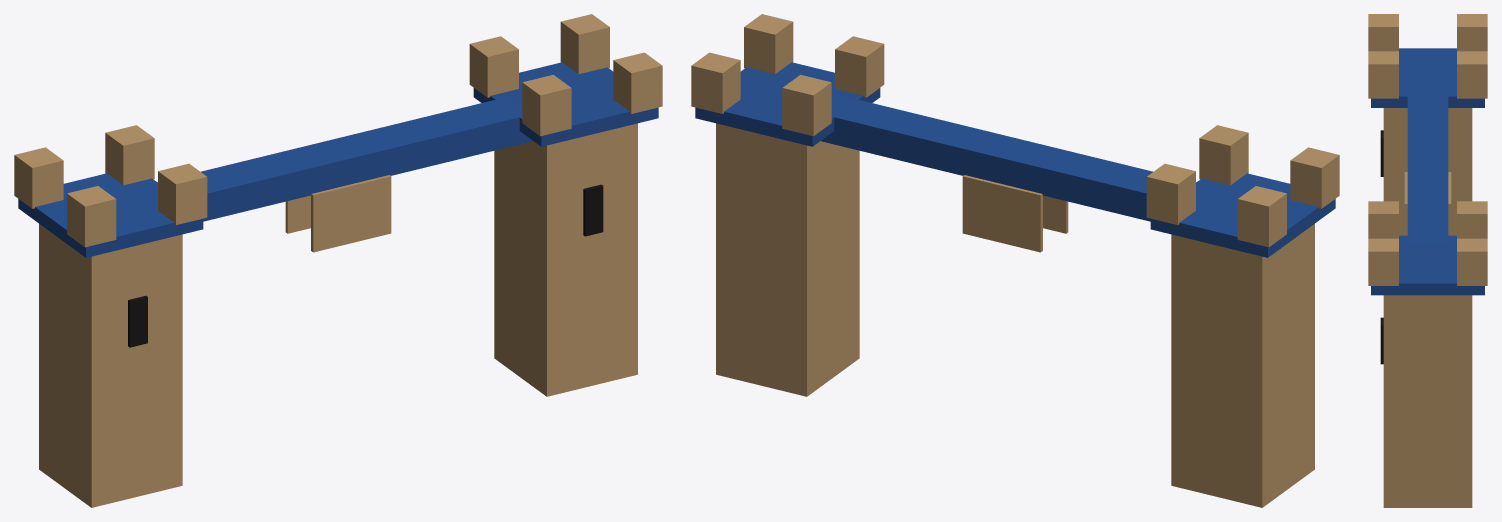
File: gnoll_gate_broken.glb
3 renders of one model, left to right at view 1: azimuth 30°, elevation 25°; view 2: azimuth 150°, elevation 25°; view 3: azimuth 270°, elevation 25°, orthographic. The views are drawn at different scales.
Parts seen in each view (by area): view 1: gnoll_gate_piece1, gnoll_gate_piece13, gnoll_gate_piece0, gnoll_gate_piece4, gnoll_gate_piece2, gnoll_gate_piece6, gnoll_gate_piece9, gnoll_gate_piece3, gnoll_gate_piece12, gnoll_gate_piece8, gnoll_gate_piece7, gnoll_gate_piece11 (+1 smaller); view 2: gnoll_gate_piece6, gnoll_gate_piece0, gnoll_gate_piece4, gnoll_gate_piece2, gnoll_gate_piece9, gnoll_gate_piece13, gnoll_gate_piece11, gnoll_gate_piece12, gnoll_gate_piece10, gnoll_gate_piece3, gnoll_gate_piece1, gnoll_gate_piece5 (+1 smaller); view 3: gnoll_gate_piece1, gnoll_gate_piece6, gnoll_gate_piece9, gnoll_gate_piece4, gnoll_gate_piece12, gnoll_gate_piece3, gnoll_gate_piece0, gnoll_gate_piece11, gnoll_gate_piece10, gnoll_gate_piece5, gnoll_gate_piece2, gnoll_gate_piece13 (+1 smaller).
Part boxes in pixels (x1=…): gnoll_gate_piece1: x1=563, y1=52, x2=662, y2=380; gnoll_gate_piece13: x1=39, y1=217, x2=171, y2=507; gnoll_gate_piece0: x1=39, y1=186, x2=144, y2=411; gnoll_gate_piece4: x1=108, y1=125, x2=391, y2=252; gnoll_gate_piece2: x1=468, y1=121, x2=578, y2=396; gnoll_gate_piece6: x1=14, y1=132, x2=208, y2=260; gnoll_gate_piece9: x1=489, y1=14, x2=611, y2=168; gnoll_gate_piece3: x1=142, y1=203, x2=200, y2=488; gnoll_gate_piece12: x1=324, y1=108, x2=481, y2=195; gnoll_gate_piece8: x1=535, y1=179, x2=611, y2=388; gnoll_gate_piece7: x1=532, y1=101, x2=581, y2=256; gnoll_gate_piece11: x1=469, y1=39, x2=524, y2=205; gnoll_gate_piece6: x1=1150, y1=125, x2=1292, y2=381; gnoll_gate_piece0: x1=1230, y1=147, x2=1339, y2=449; gnoll_gate_piece4: x1=962, y1=130, x2=1209, y2=252; gnoll_gate_piece2: x1=729, y1=104, x2=895, y2=396; gnoll_gate_piece9: x1=691, y1=36, x2=884, y2=213; gnoll_gate_piece13: x1=1207, y1=176, x2=1314, y2=507; gnoll_gate_piece11: x1=766, y1=81, x2=860, y2=250; gnoll_gate_piece12: x1=871, y1=109, x2=1015, y2=226; gnoll_gate_piece10: x1=716, y1=200, x2=803, y2=377; gnoll_gate_piece3: x1=1171, y1=151, x2=1259, y2=494; gnoll_gate_piece1: x1=716, y1=14, x2=834, y2=327; gnoll_gate_piece5: x1=744, y1=101, x2=888, y2=362; gnoll_gate_piece1: x1=1368, y1=238, x2=1472, y2=507; gnoll_gate_piece6: x1=1368, y1=14, x2=1487, y2=211; gnoll_gate_piece9: x1=1368, y1=201, x2=1487, y2=320; gnoll_gate_piece4: x1=1381, y1=52, x2=1487, y2=235; gnoll_gate_piece12: x1=1404, y1=165, x2=1451, y2=235; gnoll_gate_piece3: x1=1383, y1=110, x2=1456, y2=235; gnoll_gate_piece0: x1=1368, y1=14, x2=1441, y2=73; gnoll_gate_piece11: x1=1417, y1=201, x2=1487, y2=242; gnoll_gate_piece10: x1=1455, y1=469, x2=1472, y2=507; gnoll_gate_piece5: x1=1407, y1=220, x2=1448, y2=234; gnoll_gate_piece2: x1=1407, y1=220, x2=1464, y2=507; gnoll_gate_piece13: x1=1380, y1=130, x2=1383, y2=176.
Size of the model in its own units: 4.44 by 2.29 by 0.94.
